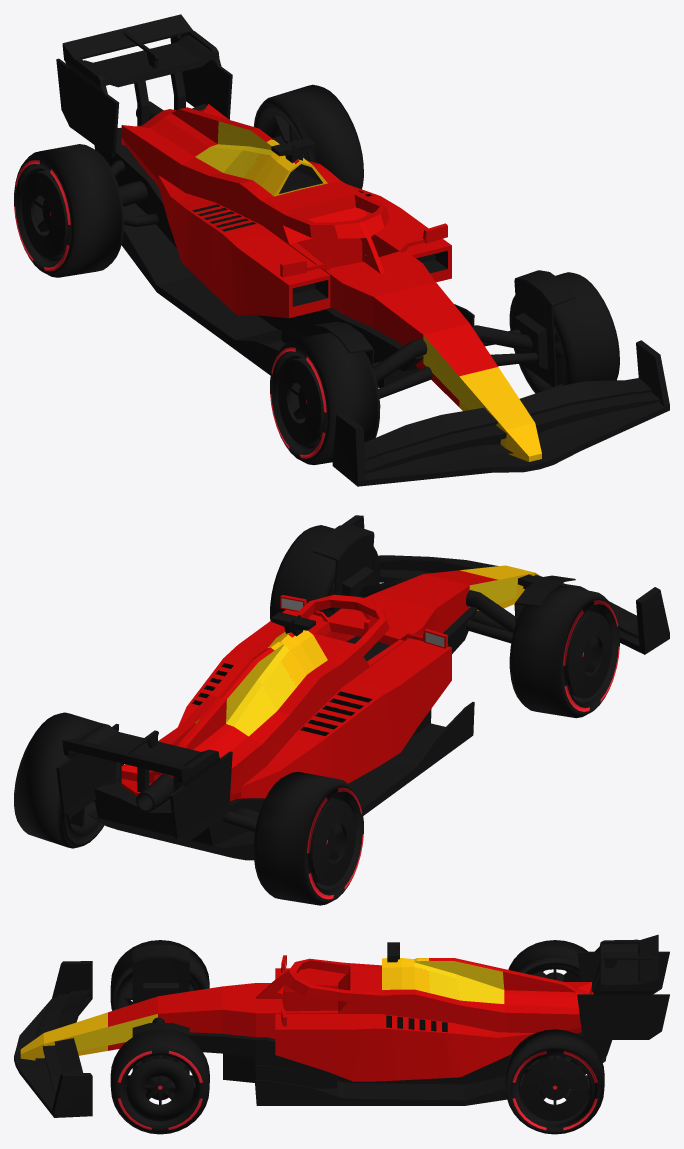
Rendered from ferrari_car.glb.
3 renders of one model, top to bottom at view 1: azimuth 30°, elevation 25°; view 2: azimuth 150°, elevation 25°; view 3: azimuth 270°, elevation 25°, orthographic. The views are drawn at different scales.
Visible parts, largest first — view 1: Base Unsubsurfed, Front Wing Base, Sidepod, Rear Wing, Bottom, RR_Tire, FR_Tire, FL_Tire, RL_Tire, L_Inside Cover, FRod, RRod (+1 smaller); view 2: Base Unsubsurfed, Sidepod, RR_Tire, FR_Tire, Rear Wing, Bottom, RL_Tire, Front Wing Base, FL_Tire, L_Inside Cover, FRod, R_Inside Cover (+3 smaller); view 3: Base Unsubsurfed, Sidepod, Bottom, RL_Tire, FL_Tire, Rear Wing, Front Wing Base, R_Inside Cover, RR_Tire, FR_Tire, L_Inside Cover.
Part boxes in pixels (x1,y1,x2,y2): Base Unsubsurfed: (121,104,541,461); Front Wing Base: (332,340,669,486); Sidepod: (158,175,451,318); Rear Wing: (56,14,232,157); Bottom: (94,103,474,387); RR_Tire: (14,144,124,277); FR_Tire: (270,332,380,464); FL_Tire: (509,272,619,393); RL_Tire: (253,84,363,189); L_Inside Cover: (514,270,575,387); FRod: (373,325,538,398); RRod: (110,160,158,227); Base Unsubsurfed: (121,565,539,801); Sidepod: (178,609,451,798); RR_Tire: (253,771,363,905); FR_Tire: (509,585,619,718); Rear Wing: (56,722,232,843); Bottom: (87,607,477,860); RL_Tire: (14,712,123,848); Front Wing Base: (342,515,669,654); FL_Tire: (270,525,380,620); L_Inside Cover: (313,524,374,614); FRod: (353,576,515,643); R_Inside Cover: (514,575,575,624); Base Unsubsurfed: (20,955,593,1060); Sidepod: (275,968,534,1081); Bottom: (189,1032,612,1105); RL_Tire: (505,1029,604,1134); FL_Tire: (110,1031,209,1134); Rear Wing: (577,934,669,1039); Front Wing Base: (14,961,92,1117); R_Inside Cover: (132,945,189,1003); RR_Tire: (508,940,587,981); FR_Tire: (110,940,209,1010); L_Inside Cover: (132,1023,189,1089).
Size of the model in its own units: 5.15 by 2.77 by 12.15.
